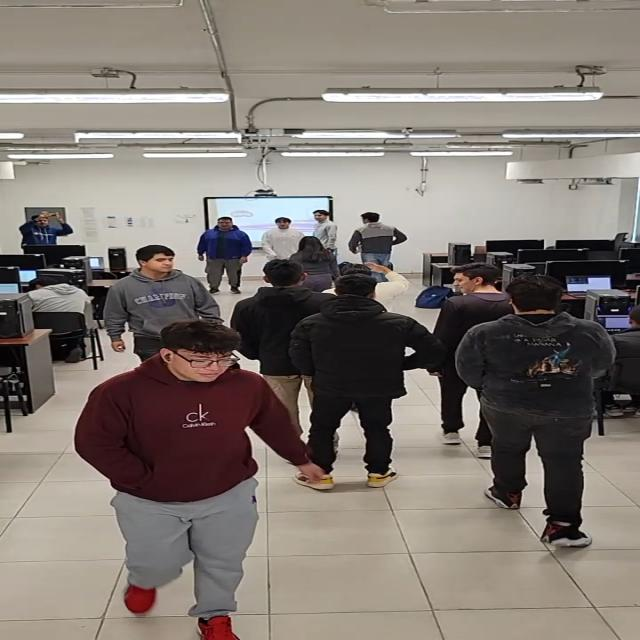Persona: (73, 323, 284, 640), (464, 273, 620, 556), (296, 271, 420, 493), (438, 264, 498, 452), (244, 264, 316, 420), (108, 246, 203, 336), (201, 212, 245, 297), (352, 208, 405, 268), (295, 235, 333, 292), (308, 203, 345, 248), (263, 213, 298, 260)
